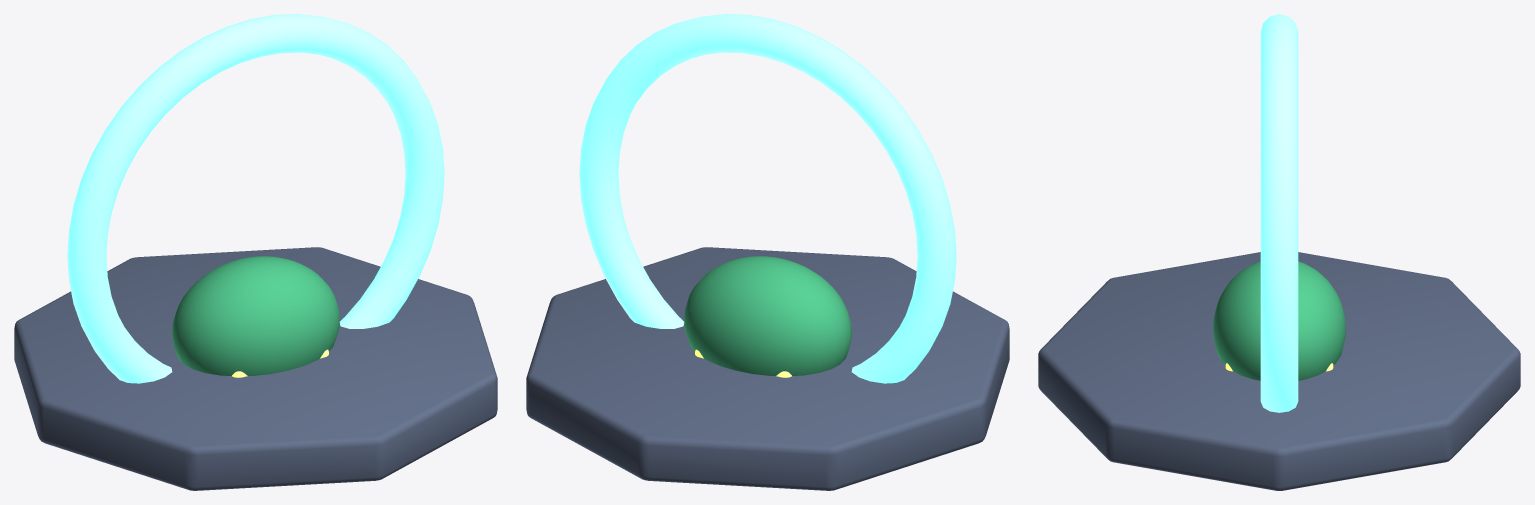
Rendered from lab_props.glb.
The picture shows the model from 3 angles, left to right: view 1: azimuth 30°, elevation 25°; view 2: azimuth 150°, elevation 25°; view 3: azimuth 270°, elevation 25°; orthographic projection. The views are drawn at different scales.
Parts seen in each view (by area): view 1: Prop_HoloBase, Prop_LogicGateArch, Prop_Watermelon; view 2: Prop_HoloBase, Prop_LogicGateArch, Prop_Watermelon; view 3: Prop_HoloBase, Prop_LogicGateArch, Prop_Watermelon.
Part boxes in pixels (box(x1,y1,x2,y2)): Prop_HoloBase: box(14, 247, 497, 490); Prop_LogicGateArch: box(67, 14, 444, 383); Prop_Watermelon: box(172, 256, 339, 375); Prop_HoloBase: box(526, 247, 1009, 490); Prop_LogicGateArch: box(579, 14, 956, 383); Prop_Watermelon: box(684, 256, 851, 375); Prop_HoloBase: box(1038, 252, 1520, 490); Prop_LogicGateArch: box(1260, 14, 1298, 412); Prop_Watermelon: box(1213, 261, 1345, 380).
Size of the model in its own units: 3.58 by 3.08 by 3.58.
